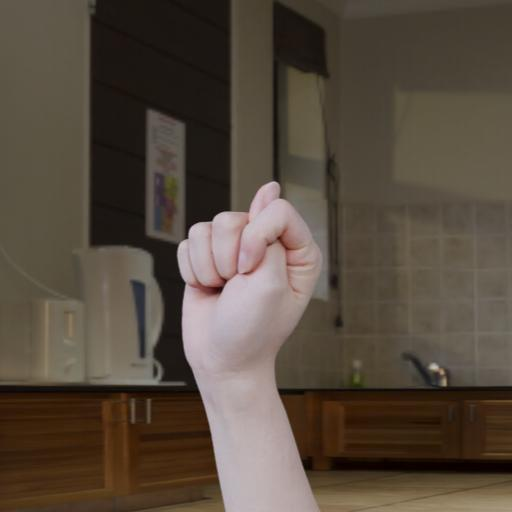T: (128, 151, 392, 427)
